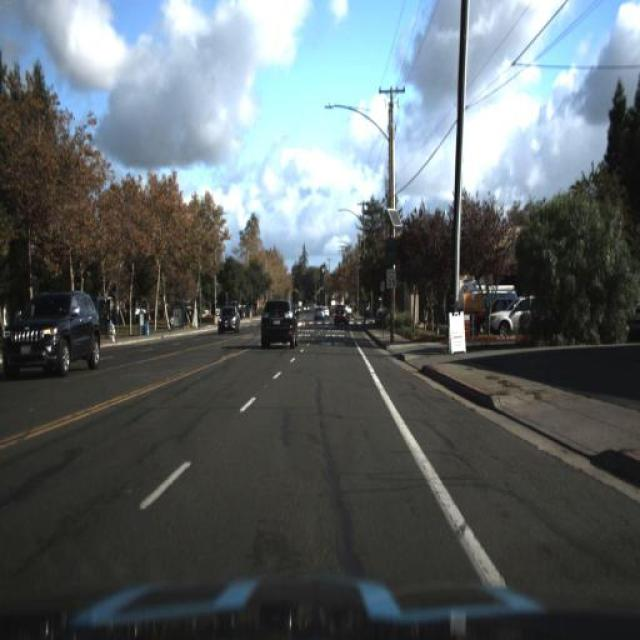car: (2, 290, 104, 382), (254, 285, 306, 357), (484, 294, 537, 335), (213, 296, 243, 340), (331, 305, 347, 326)
